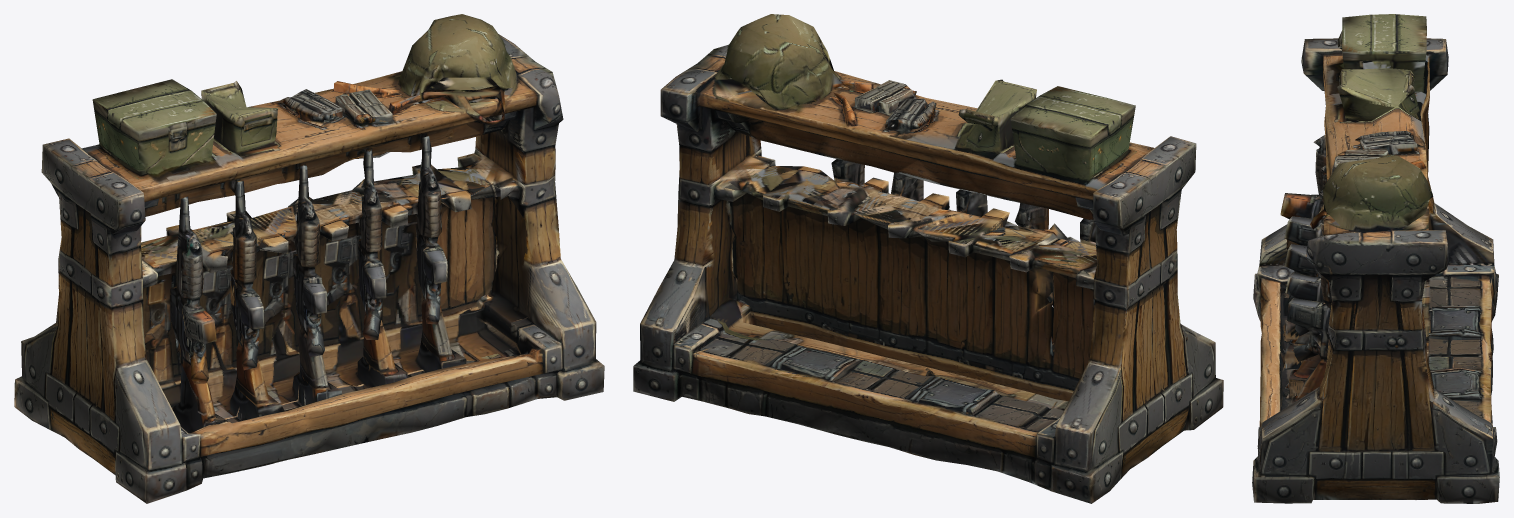
File: EX_Mil_WeaponRack.fbx
3 views of the same model, side by side, from view 1: azimuth 30°, elevation 25°; view 2: azimuth 150°, elevation 25°; view 3: azimuth 270°, elevation 25° (orthographic). The views are drawn at different scales.
Parts seen in each view (by area): view 1: texture_mapping; view 2: texture_mapping; view 3: texture_mapping.
Boxes of the visible parts, x1,y1,x2,y2 form: texture_mapping: (14, 14, 604, 503); texture_mapping: (633, 14, 1223, 503); texture_mapping: (1252, 14, 1499, 503).
Size of the model in its own units: 1 by 0.5069 by 0.7055.
1 material, 1 textured.
